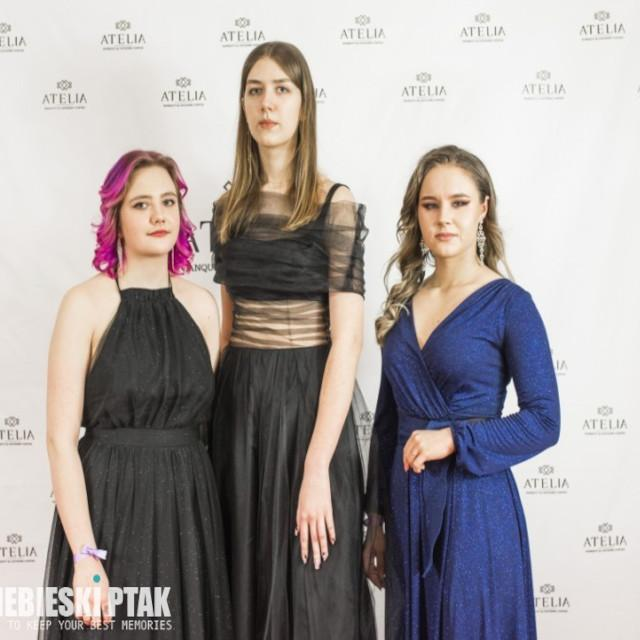kobieta: (212, 37, 367, 640), (375, 147, 563, 640), (36, 147, 223, 640)
